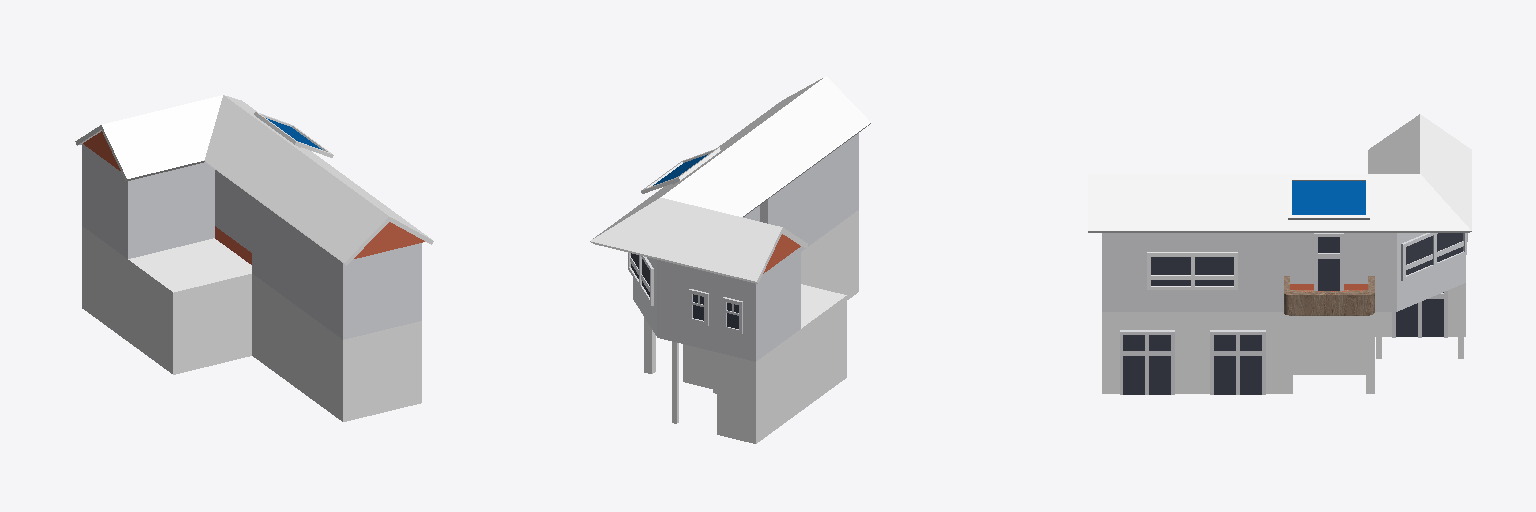
3 views of the same model, side by side, from view 1: azimuth 30°, elevation 25°; view 2: azimuth 150°, elevation 25°; view 3: azimuth 270°, elevation 25° (orthographic).
Bounding box in the file's own units: 2.15 × 2.44 × 4.22.
7 materials, 1 textured.